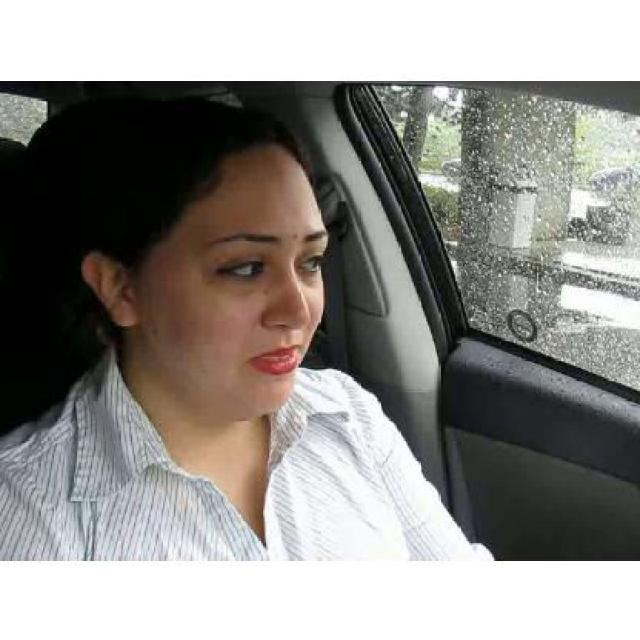attentif: (85, 100, 328, 414)
